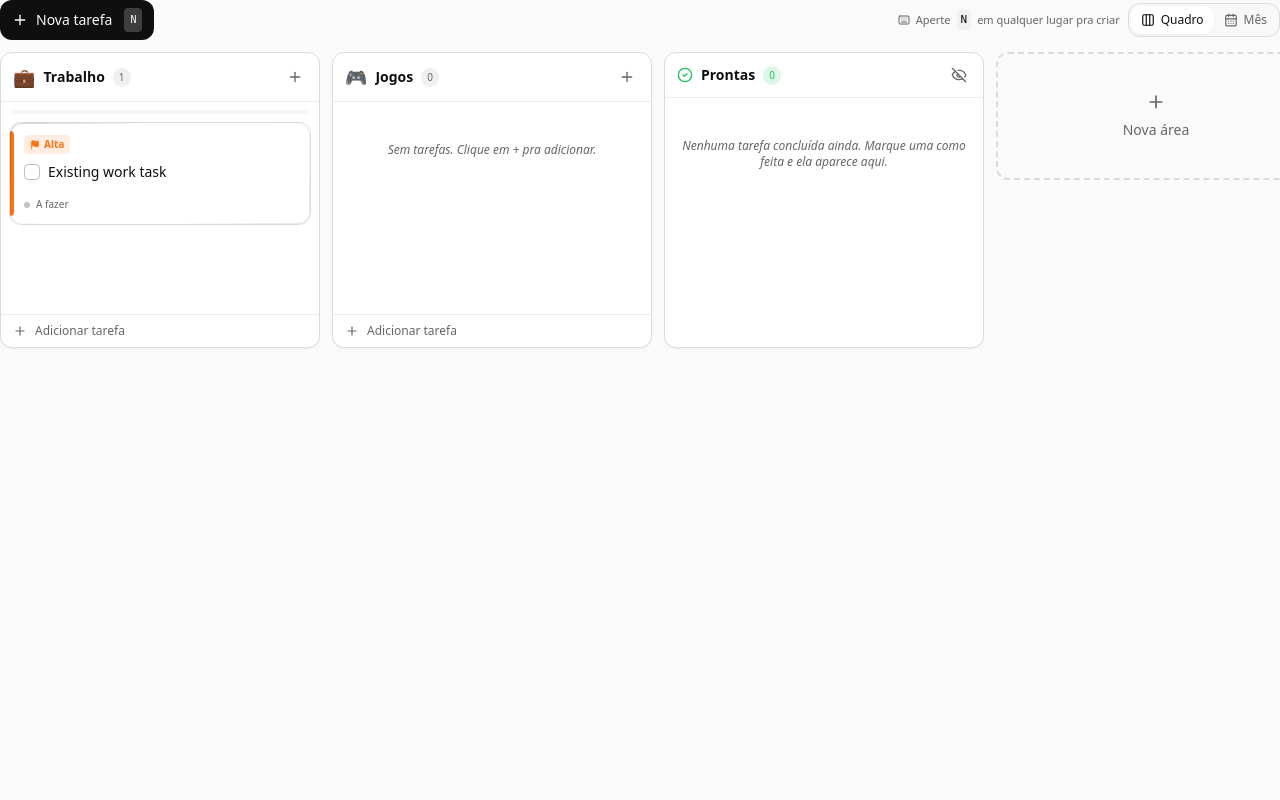
it: KanbanBoard › clicking a card opens the detail dialog
Step 1. Click the text "Existing work task" → (107, 172), box 48,162 -> 166,181
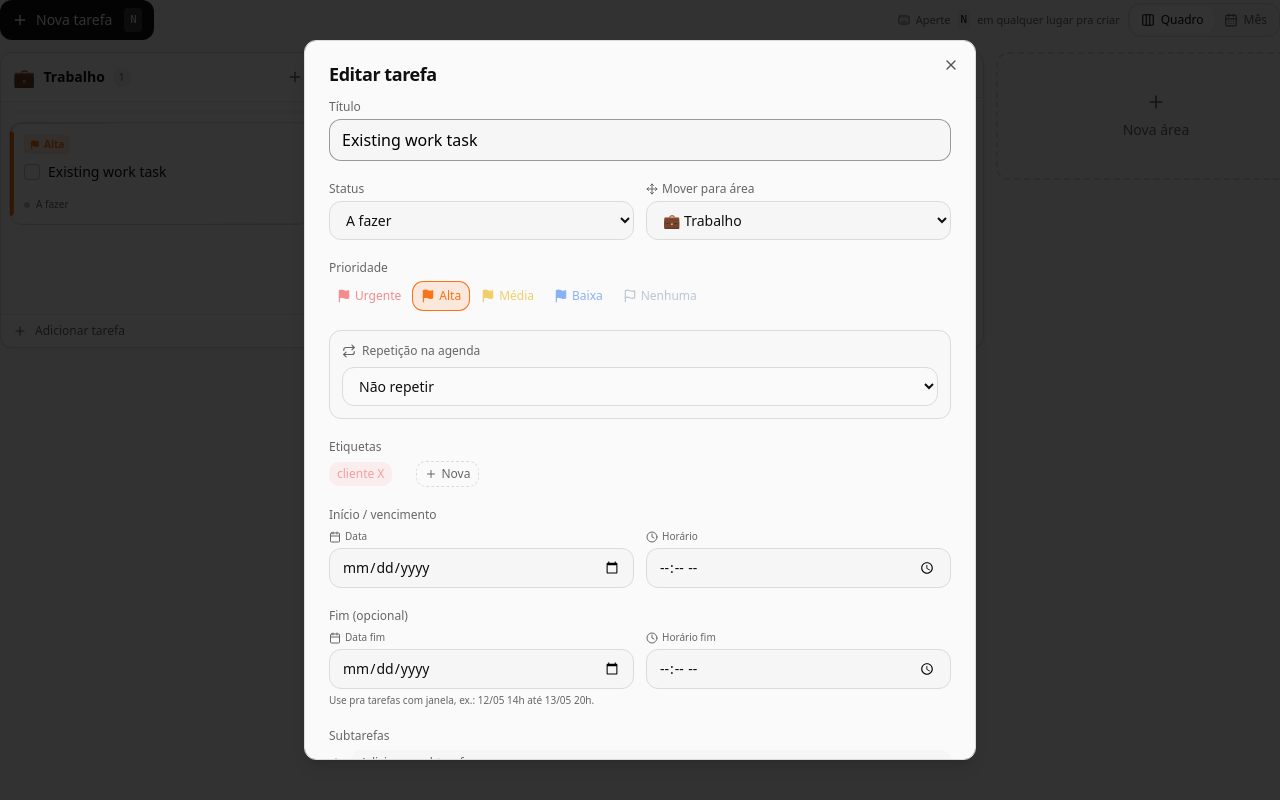
expect the dialog is shown: met, box 304,40 -> 976,760
expect the heading "Editar tarefa" is shown: met, box 329,62 -> 437,86
